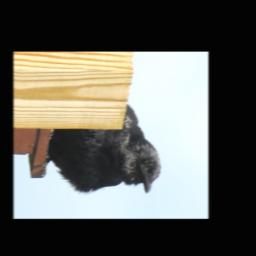Crow: (41, 100, 164, 201)
